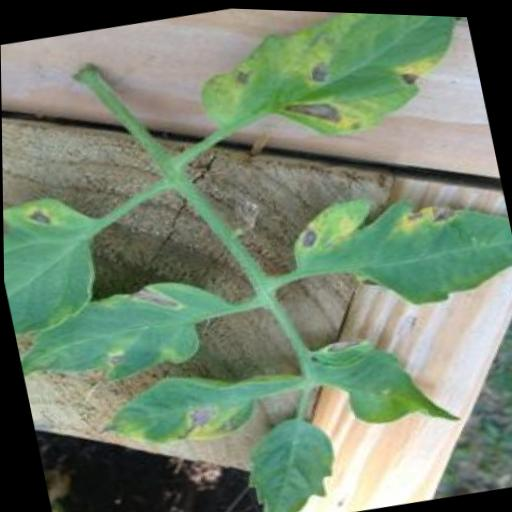Early Blight: (191, 6, 486, 162), (276, 166, 512, 330), (8, 261, 251, 402), (83, 351, 298, 460), (303, 314, 461, 445), (2, 184, 115, 338)
Healthy: (233, 406, 353, 512)
